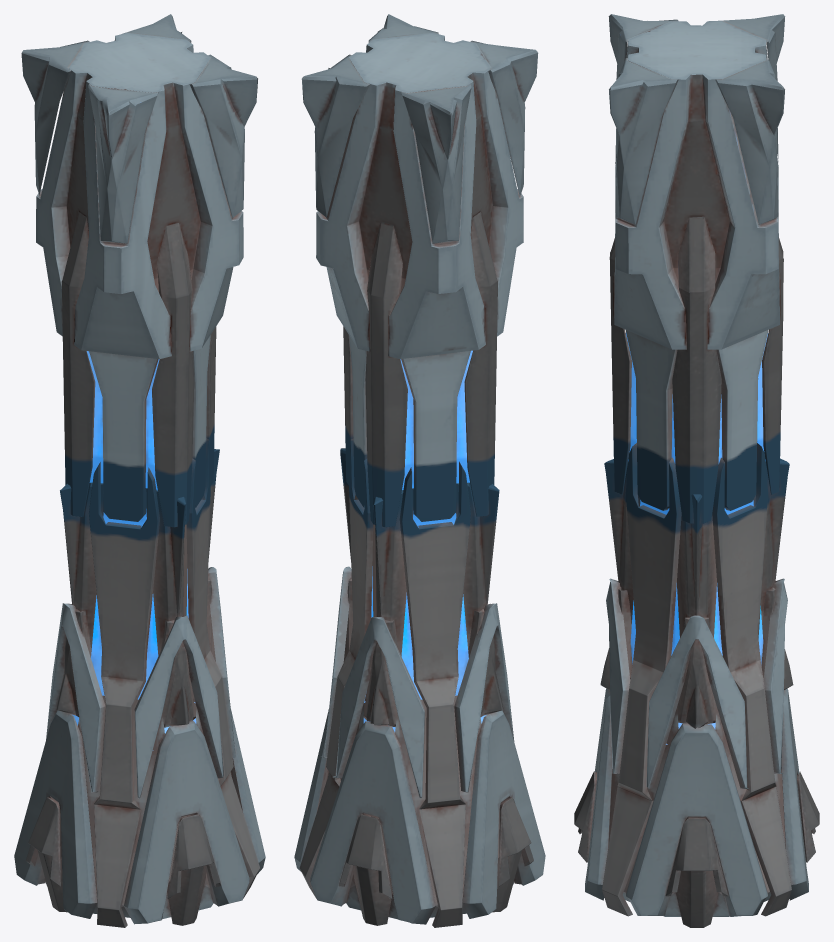
Rendered from Pillar_Tek_C.glb.
3 renders of one model, left to right at view 1: azimuth 30°, elevation 25°; view 2: azimuth 150°, elevation 25°; view 3: azimuth 270°, elevation 25°, orthographic.
Visible parts, largest first — view 1: SM_Tek_Pillar; view 2: SM_Tek_Pillar; view 3: SM_Tek_Pillar.
Part boxes in pixels (bbox=[...]): SM_Tek_Pillar: bbox=[14, 14, 265, 927]; SM_Tek_Pillar: bbox=[294, 14, 545, 927]; SM_Tek_Pillar: bbox=[574, 14, 819, 927].
Bounding box in the file's own units: 0.8035 × 3.03 × 0.8035.
1 material, 1 textured.
